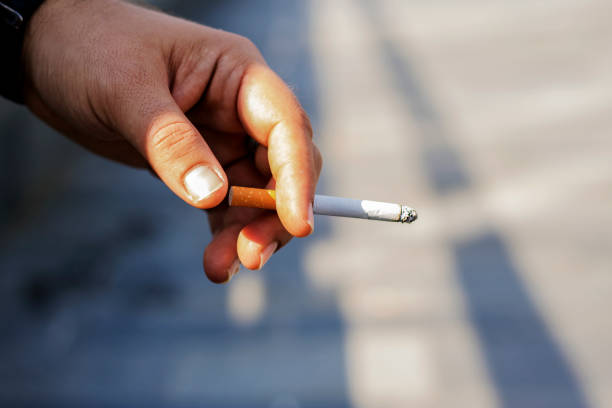cigarette: (229, 184, 419, 223)
